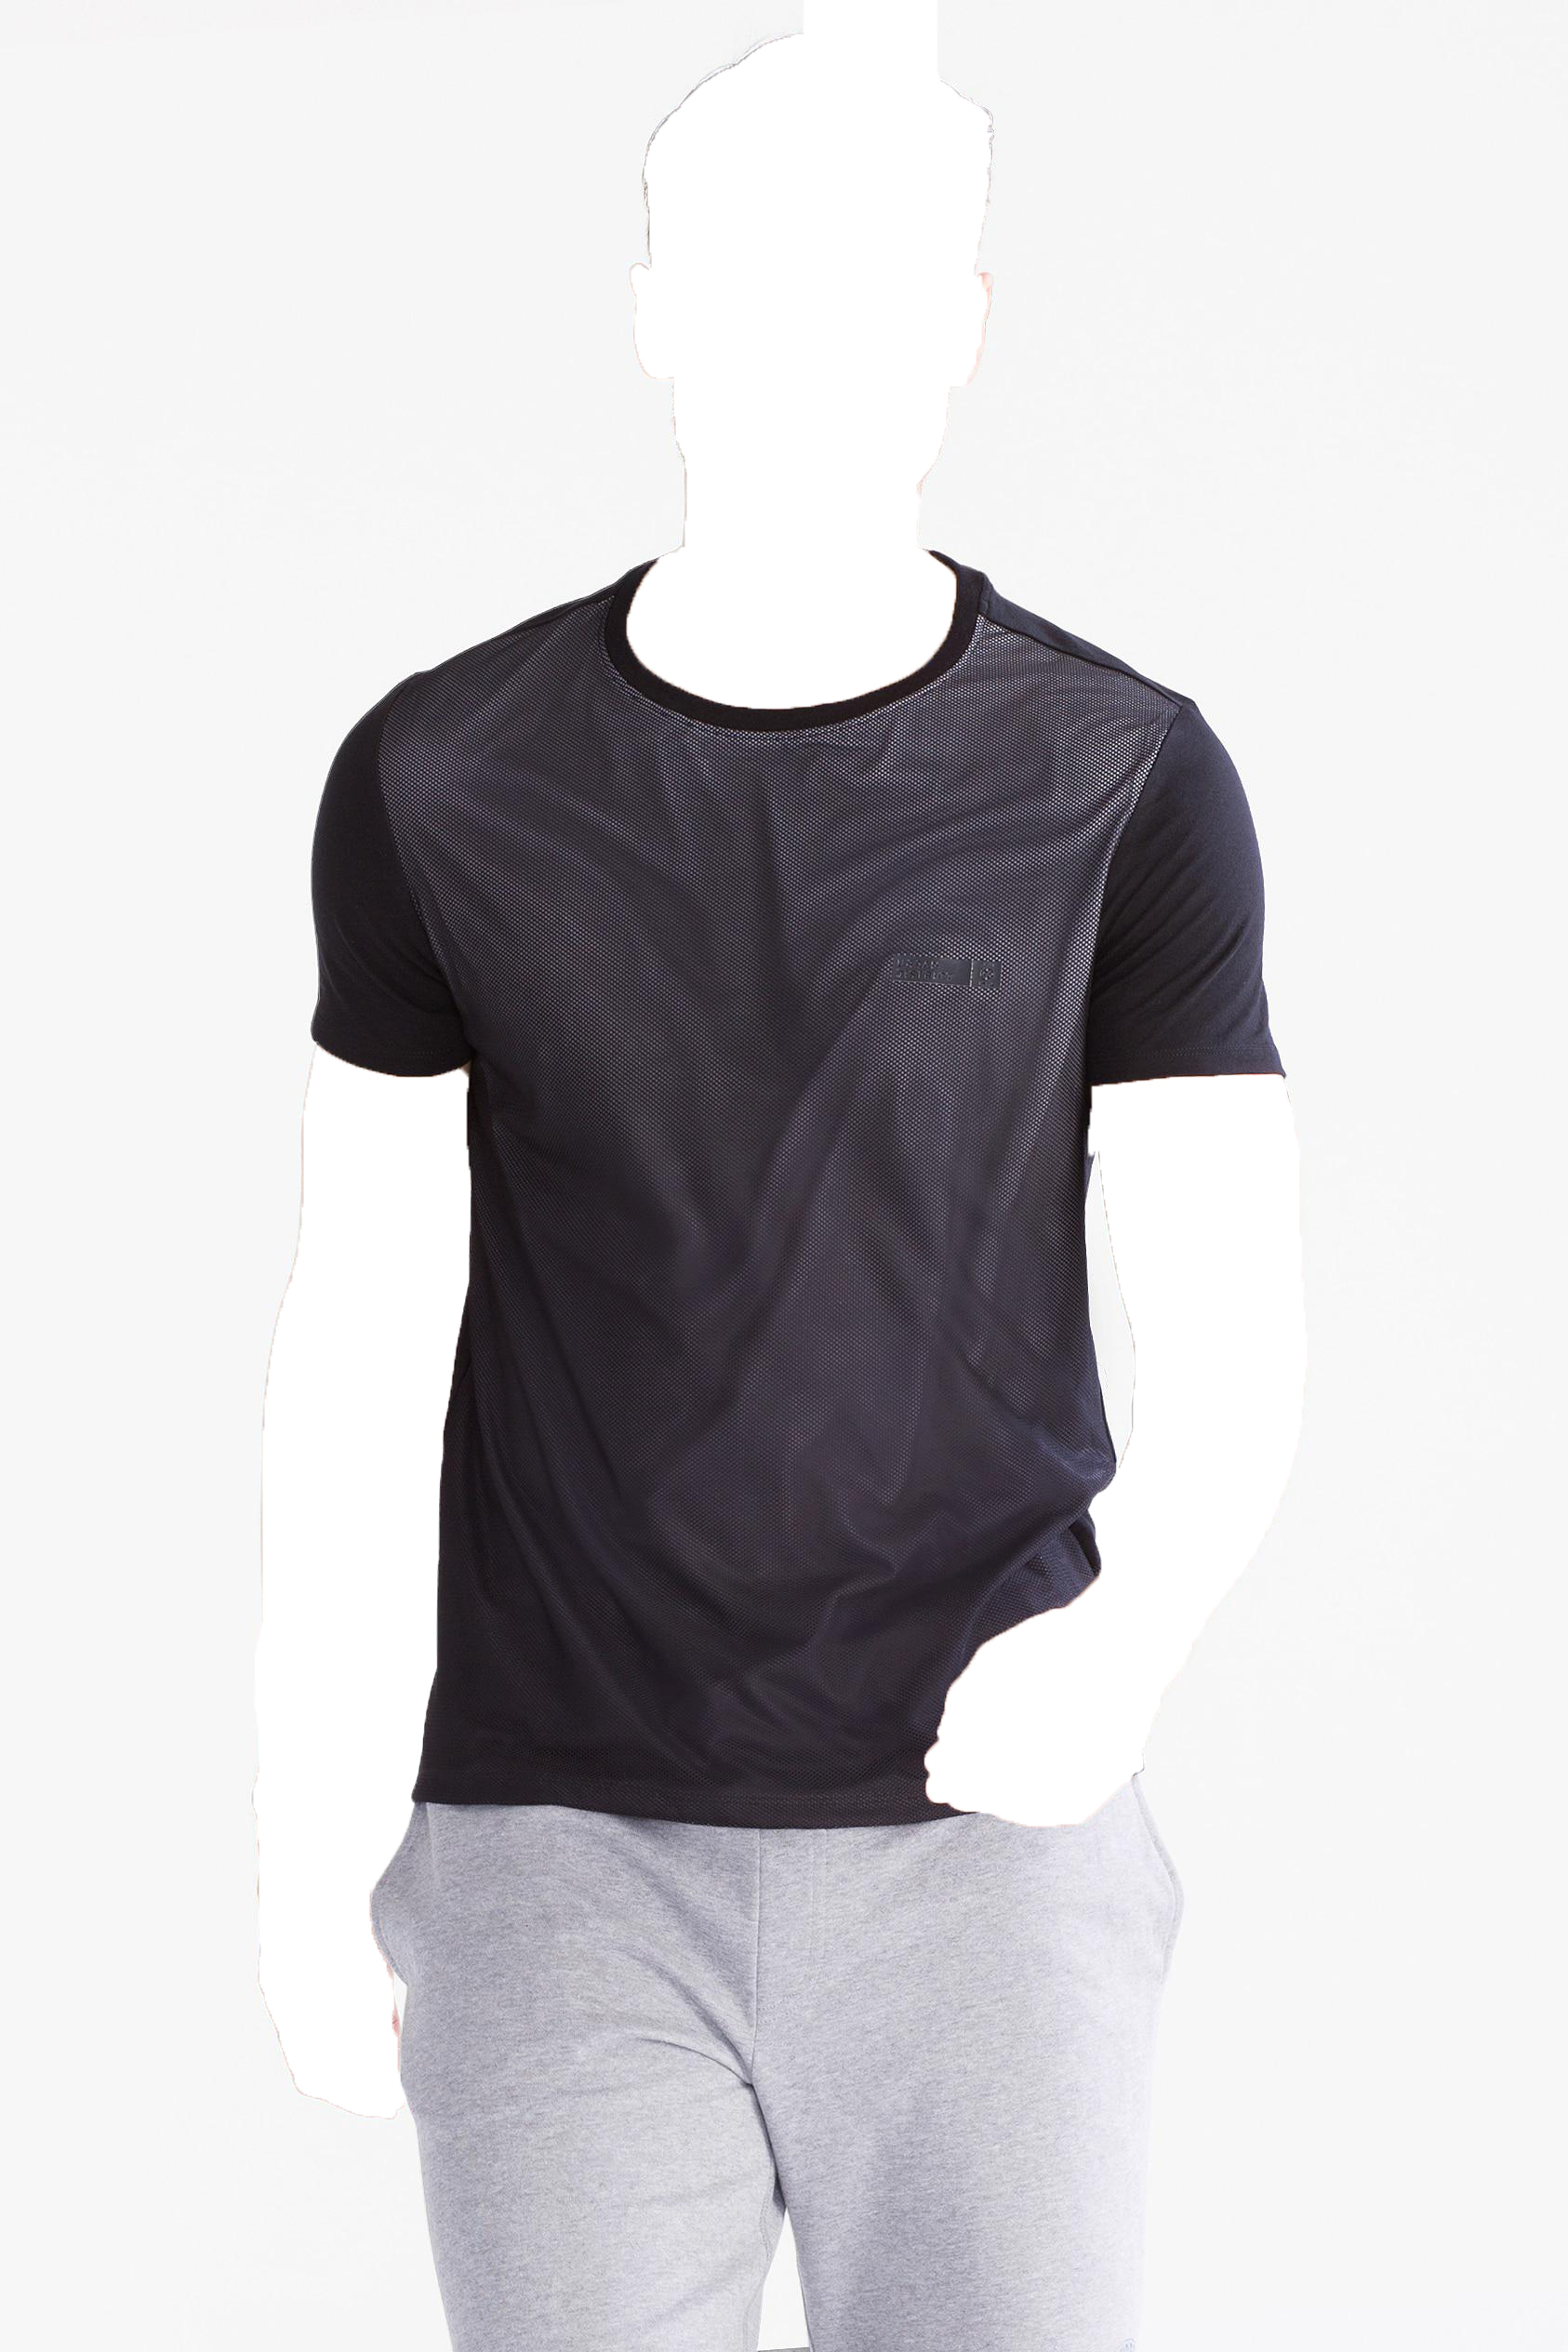teeshirt: (289, 535, 1297, 1872)
